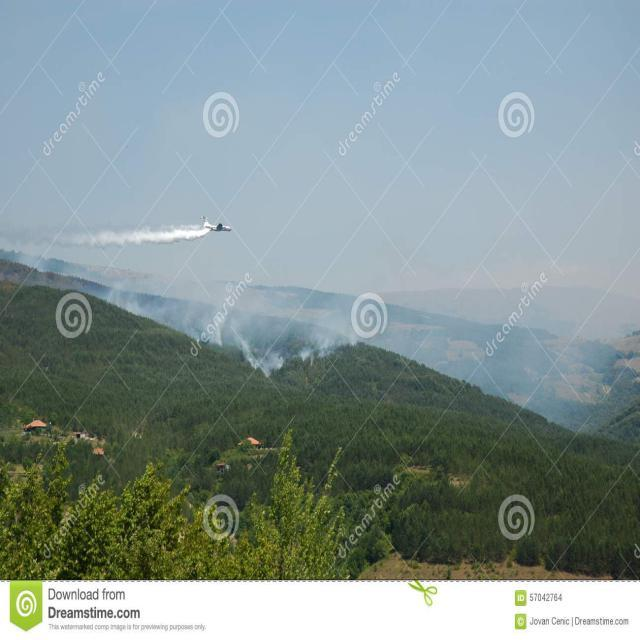Smoke: (102, 276, 339, 368), (51, 219, 208, 250)
